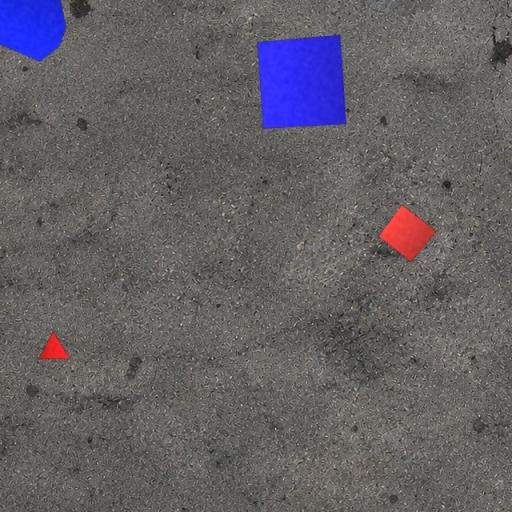BLUE_SQUARE: (257, 34, 347, 130)
RED_SQUARE: (378, 204, 436, 263)
